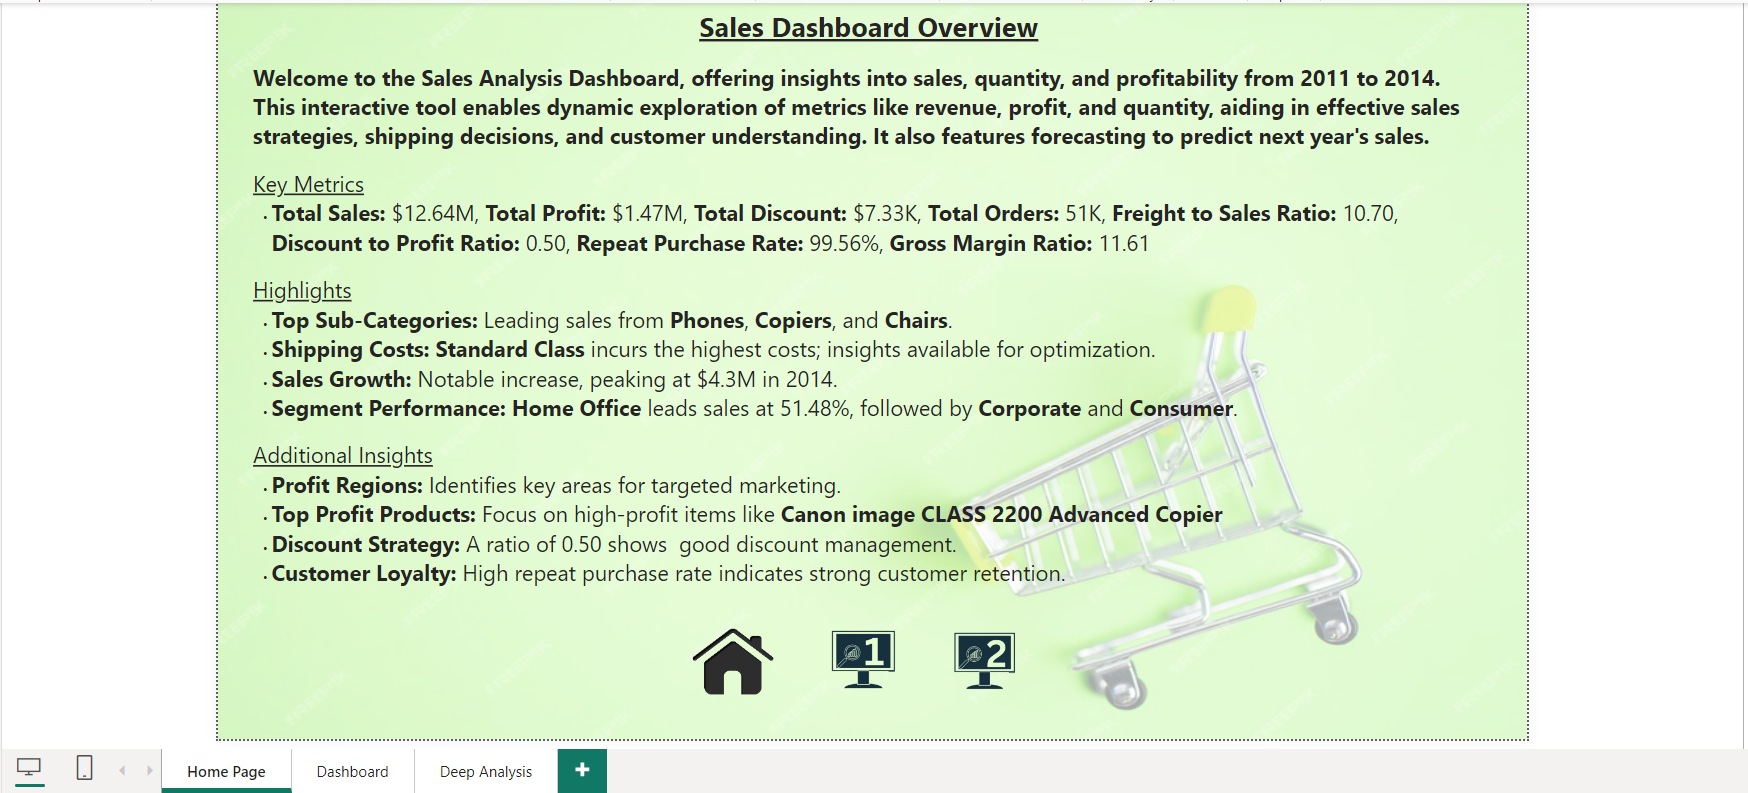

This screenshot's page, from the dashboard's own definition file:
{"tool":"powerbi","page":{"name":"Home Page","canvas":[1280,720],"ordinal":0},"visuals":[{"type":"image","box":[455,590.2,97.3,97.3],"z":0,"group":"g1"},{"type":"textbox","box":[29.1,0,1214.5,590.2],"z":0},{"type":"group","id":"g1","title":"Group 2","box":[455,590.2,338.8,97.3],"z":1},{"type":"image","box":[591.5,600.5,82.3,82.3],"z":1000,"group":"g1"},{"type":"image","box":[711.5,602.9,82.3,81.9],"z":2000,"group":"g1"}]}

Visuals, with their boxes on the page's 1280x720 design canvas (x1, y1, x2, y2). These are canvas units, not pixel positions in the 1748x793 screenshot, which may show the page scaled, cropped or inside an application window:
image: [455,590,552,688]
textbox: [29,0,1244,590]
"Group 2" group: [455,590,794,688]
image: [592,600,674,683]
image: [712,603,794,685]
